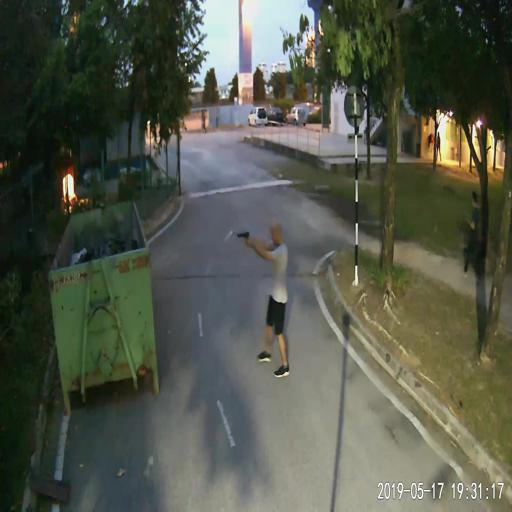pistol: (236, 230, 252, 246)
